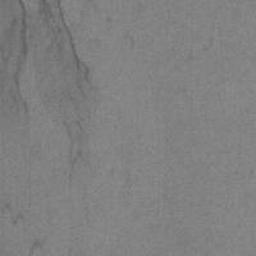Water spot: (0, 0, 100, 164)
